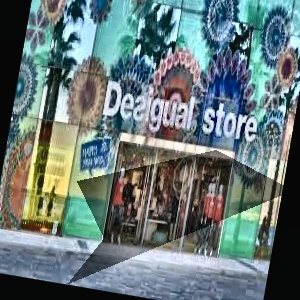desigual: (149, 32, 253, 155)
